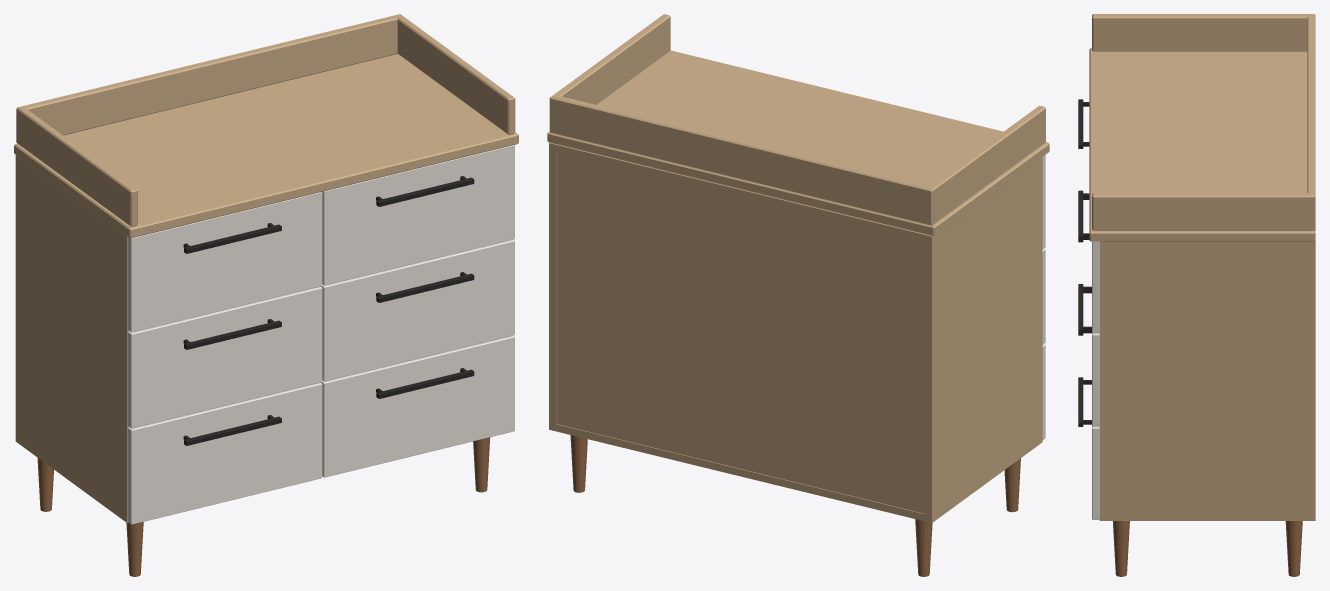
Rendered from 36_komoda_przewijak_100.glb.
3 renders of one model, left to right at view 1: azimuth 30°, elevation 25°; view 2: azimuth 150°, elevation 25°; view 3: azimuth 270°, elevation 25°, orthographic. The views are drawn at different scales.
Parts seen in each view (by area): view 1: Wierzch, Korpus, Barierka, Front_szuflada_2, Front_szuflada_3, Front_szuflada_5, Front_szuflada_6, Front_szuflada_1, Front_szuflada_4, Uchwyty, Nogi; view 2: Korpus, Wierzch, Barierka, Nogi; view 3: Korpus, Wierzch, Barierka, Nogi, Uchwyty, Front_szuflada_5, Front_szuflada_6, Front_szuflada_4.
Boxes of the visible parts, box(x1,y1,x2,y2) form: Wierzch: box(14, 54, 518, 238); Korpus: box(15, 155, 129, 522); Barierka: box(16, 14, 515, 226); Front_szuflada_2: box(127, 286, 322, 428); Front_szuflada_3: box(127, 382, 322, 524); Front_szuflada_5: box(321, 239, 514, 381); Front_szuflada_6: box(321, 335, 514, 477); Front_szuflada_1: box(127, 192, 322, 332); Front_szuflada_4: box(322, 145, 514, 285); Uchwyty: box(183, 176, 474, 445); Nogi: box(37, 437, 490, 576); Korpus: box(549, 143, 1042, 522); Wierzch: box(547, 50, 1049, 236); Barierka: box(549, 14, 1045, 225); Nogi: box(570, 435, 1020, 576); Korpus: box(1099, 241, 1315, 520); Wierzch: box(1089, 48, 1315, 241); Barierka: box(1092, 14, 1315, 230); Nogi: box(1113, 521, 1302, 576); Uchwyty: box(1078, 99, 1091, 426); Front_szuflada_5: box(1092, 333, 1099, 426); Front_szuflada_6: box(1092, 426, 1099, 519); Front_szuflada_4: box(1092, 241, 1099, 333).
Bounding box in the file's own units: 1.01 × 0.99 × 0.55.
